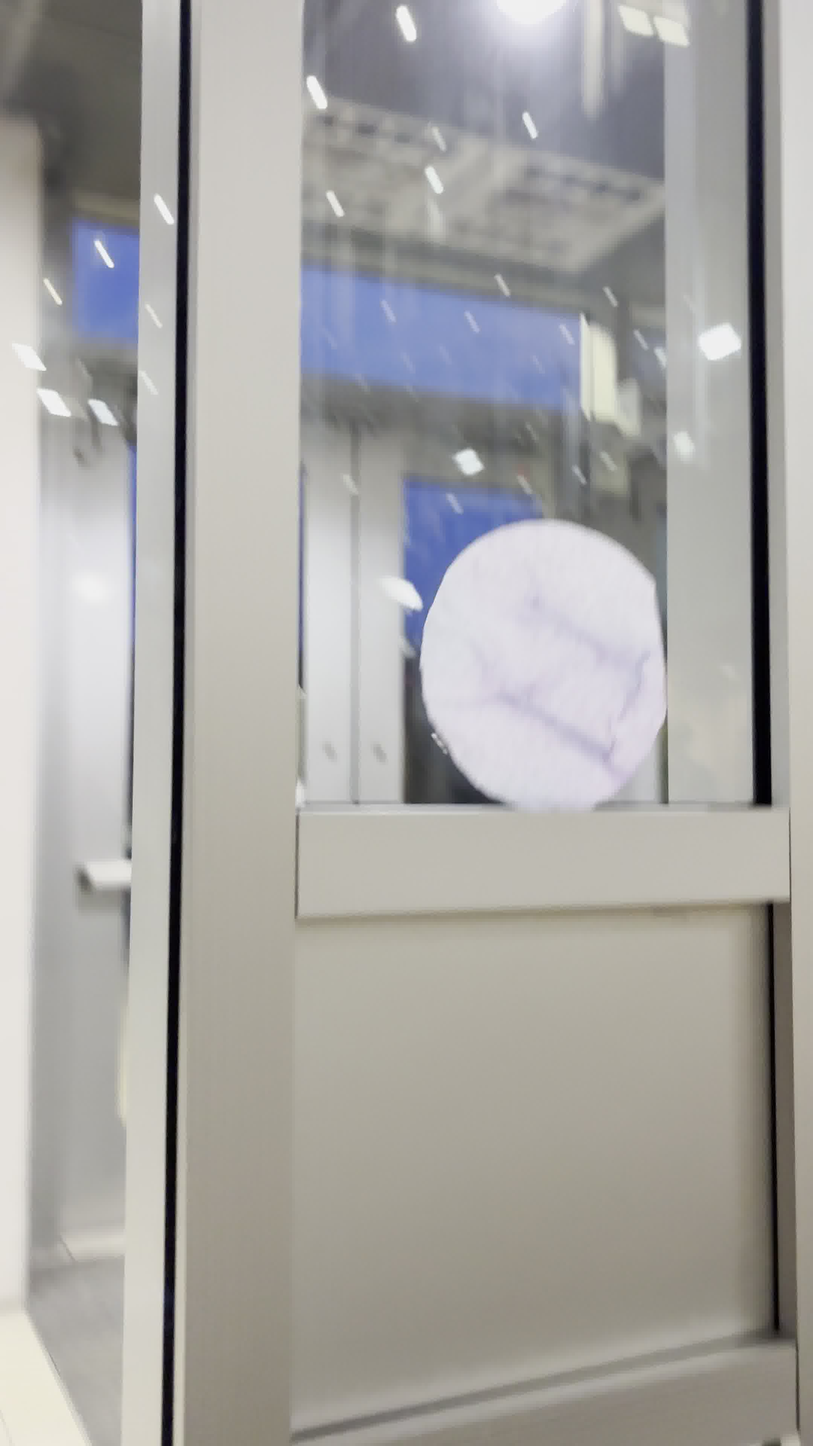Target: (416, 517, 677, 820)
